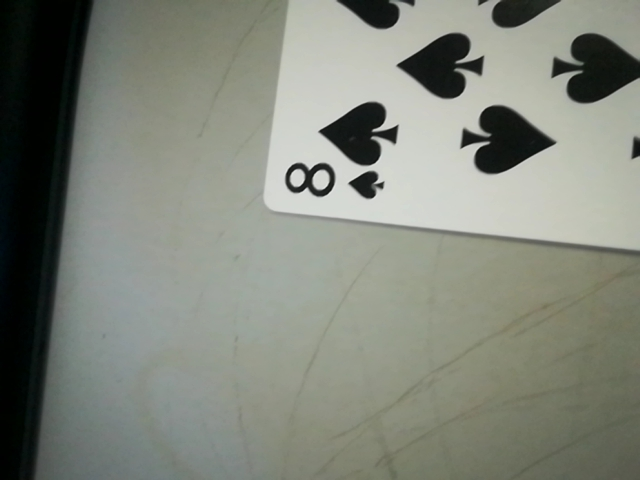ht 8: (268, 145, 394, 218)
